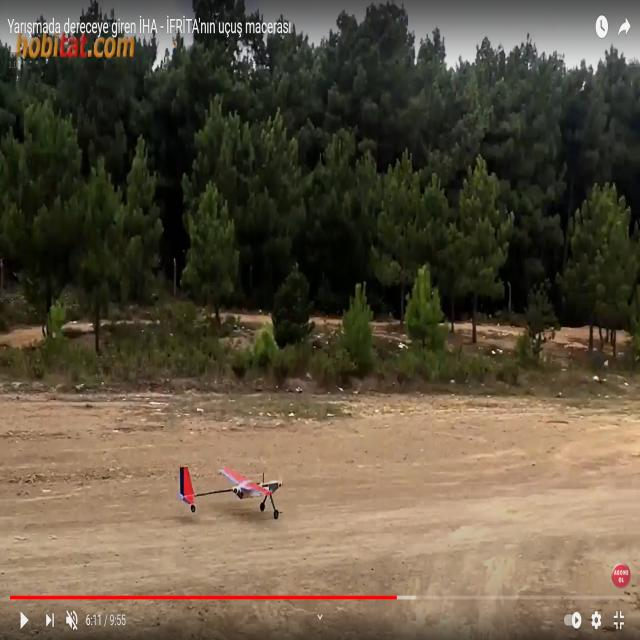iha: (210, 464, 250, 522)
